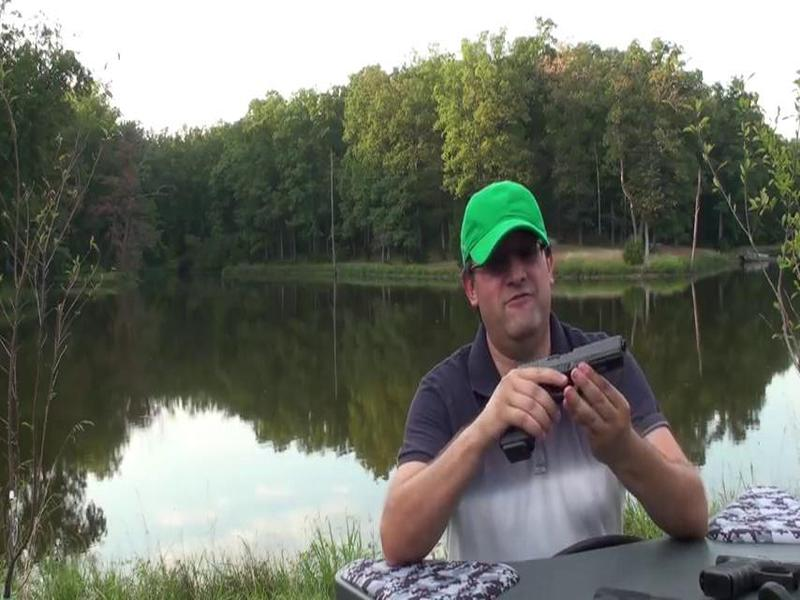Pistola: (504, 336, 633, 380)
